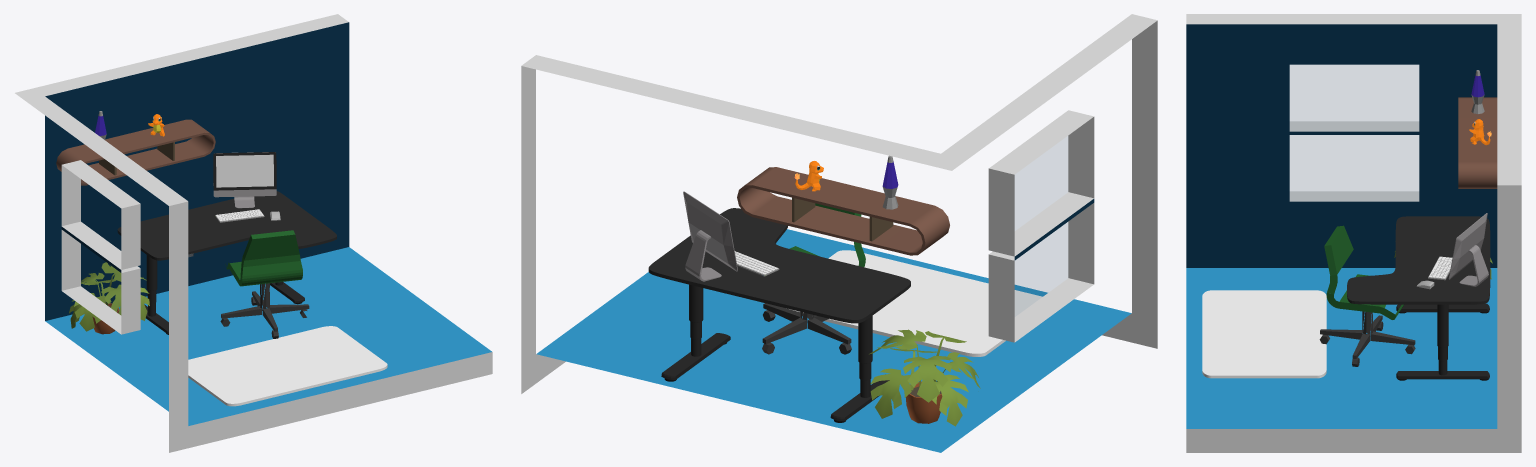
3 views of the same model, side by side, from view 1: azimuth 30°, elevation 25°; view 2: azimuth 150°, elevation 25°; view 3: azimuth 270°, elevation 25° (orthographic). The views are drawn at different scales.
Parts seen in each view (by area): view 1: Plane, WawaRug, Desk, Chair, SM_Shelf:SM_Shelf1, Houseplant_7, Screen, iMac; view 2: Plane, Desk, SM_Shelf:SM_Shelf1, WawaRug, Houseplant_7, iMac, Chair, LavaLamp; view 3: Plane, WawaRug, Desk, Chair, SM_Shelf:SM_Shelf1, iMac, LavaLamp, keyboard, salameche.
Part boxes in pixels (left/top/right/bottom): Plane: left=15, top=14, right=492, bottom=452; WawaRug: left=188, top=326, right=387, bottom=406; Desk: left=117, top=191, right=336, bottom=334; Chair: left=220, top=230, right=309, bottom=338; SM_Shelf:SM_Shelf1: left=56, top=119, right=215, bottom=185; Houseplant_7: left=69, top=262, right=149, bottom=334; Screen: left=216, top=155, right=273, bottom=187; iMac: left=213, top=152, right=276, bottom=208; Plane: left=521, top=14, right=1157, bottom=452; Desk: left=648, top=208, right=910, bottom=422; SM_Shelf:SM_Shelf1: left=737, top=167, right=949, bottom=255; WawaRug: left=789, top=250, right=1042, bottom=356; Houseplant_7: left=869, top=329, right=980, bottom=426; iMac: left=683, top=191, right=737, bottom=281; Chair: left=762, top=203, right=865, bottom=354; LavaLamp: left=882, top=155, right=898, bottom=209; Plane: left=1186, top=14, right=1521, bottom=452; WawaRug: left=1202, top=290, right=1326, bottom=378; Desk: left=1347, top=216, right=1490, bottom=380; Chair: left=1319, top=225, right=1415, bottom=366; SM_Shelf:SM_Shelf1: left=1458, top=97, right=1497, bottom=188; iMac: left=1448, top=213, right=1488, bottom=286; LavaLamp: left=1471, top=70, right=1484, bottom=113; keyboard: left=1428, top=256, right=1452, bottom=280; salameche: left=1469, top=119, right=1491, bottom=145.
Size of the model in its own units: 4.01 by 2.92 by 3.32.
